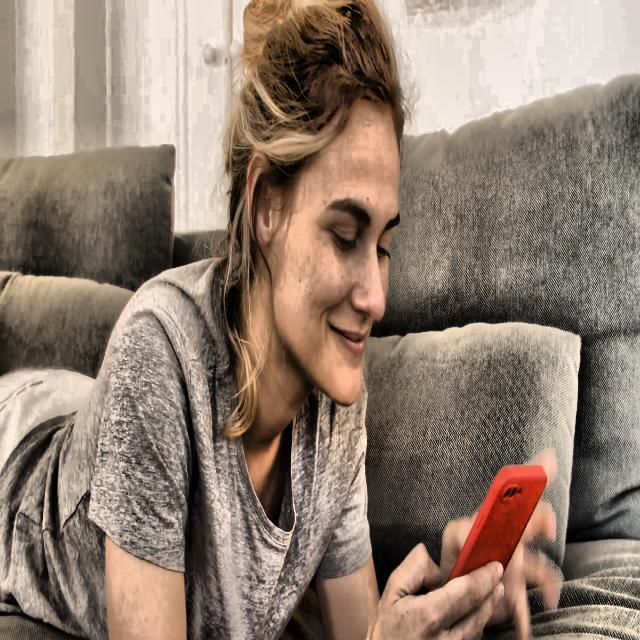Phone: (442, 459, 550, 580)
